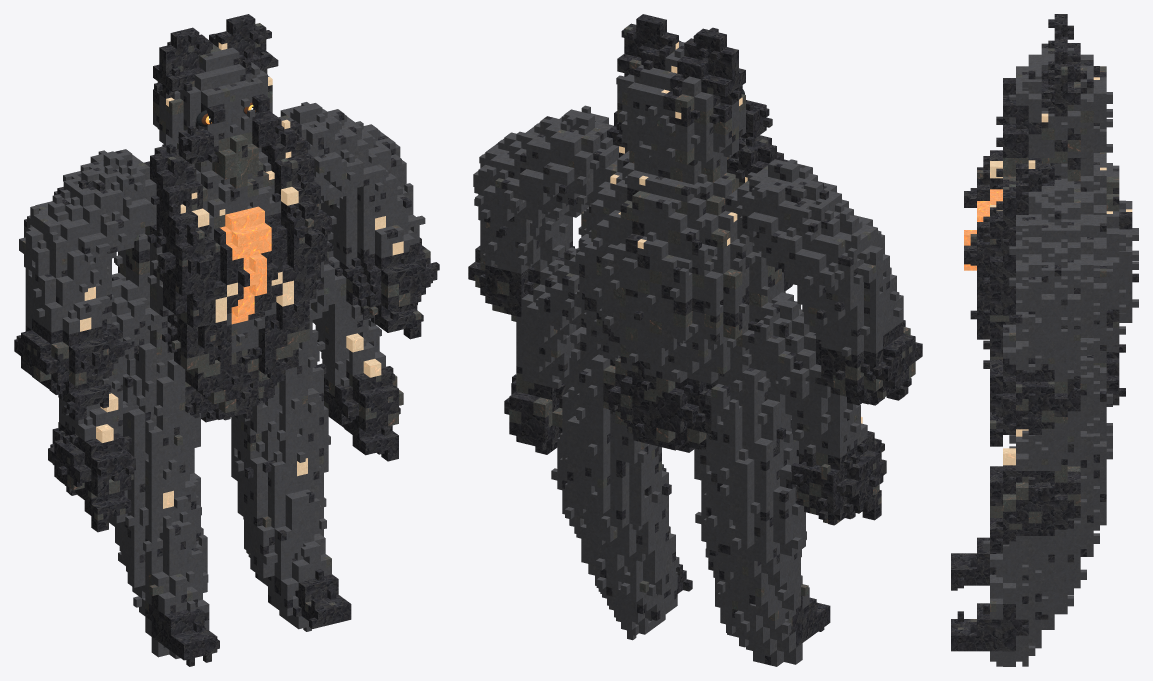
The model's file is Mars.glb.
The picture shows the model from 3 angles, left to right: view 1: azimuth 30°, elevation 25°; view 2: azimuth 150°, elevation 25°; view 3: azimuth 270°, elevation 25°; orthographic projection. The views are drawn at different scales.
Parts seen in each view (by area): view 1: Mars / torso / GAME MESH, Mars / left-arm-0 / GAME MESH, Mars / left-leg / GAME MESH, Mars / right-leg / GAME MESH, Mars / right-arm-0 / GAME MESH, Mars / head / GAME MESH, Mars / right-arm-1 / GAME MESH, Mars / left-arm-1 / GAME MESH; view 2: Mars / torso / GAME MESH, Mars / left-leg / GAME MESH, Mars / left-arm-0 / GAME MESH, Mars / right-leg / GAME MESH, Mars / right-arm-0 / GAME MESH, Mars / head / GAME MESH, Mars / left-arm-1 / GAME MESH, Mars / right-arm-1 / GAME MESH; view 3: Mars / right-arm-0 / GAME MESH, Mars / torso / GAME MESH, Mars / right-leg / GAME MESH, Mars / head / GAME MESH, Mars / right-arm-1 / GAME MESH, Mars / left-leg / GAME MESH.
Boxes of the visible parts, x1,y1,x2,y2 form: Mars / torso / GAME MESH: (114,119,331,422); Mars / left-arm-0 / GAME MESH: (14,149,156,420); Mars / left-leg / GAME MESH: (109,329,219,666); Mars / right-leg / GAME MESH: (231,308,351,631); Mars / right-arm-0 / GAME MESH: (278,102,439,339); Mars / head / GAME MESH: (153,14,284,188); Mars / right-arm-1 / GAME MESH: (309,241,403,461); Mars / left-arm-1 / GAME MESH: (48,273,159,532); Mars / torso / GAME MESH: (575,111,793,452); Mars / left-leg / GAME MESH: (694,352,830,666); Mars / left-arm-0 / GAME MESH: (736,159,922,405); Mars / right-leg / GAME MESH: (551,310,692,640); Mars / right-arm-0 / GAME MESH: (468,105,618,321); Mars / head / GAME MESH: (616,14,772,171); Mars / left-arm-1 / GAME MESH: (742,292,886,525); Mars / right-arm-1 / GAME MESH: (504,247,586,454); Mars / right-arm-0 / GAME MESH: (990,180,1112,446); Mars / torso / GAME MESH: (964,146,1138,405); Mars / right-leg / GAME MESH: (951,356,1112,666); Mars / head / GAME MESH: (996,14,1112,178); Mars / right-arm-1 / GAME MESH: (990,335,1099,552); Mars / left-leg / GAME MESH: (951,405,1112,590).
Size of the model in its own units: 9.23 by 13.3 by 3.77.
11 materials, 6 textured.
